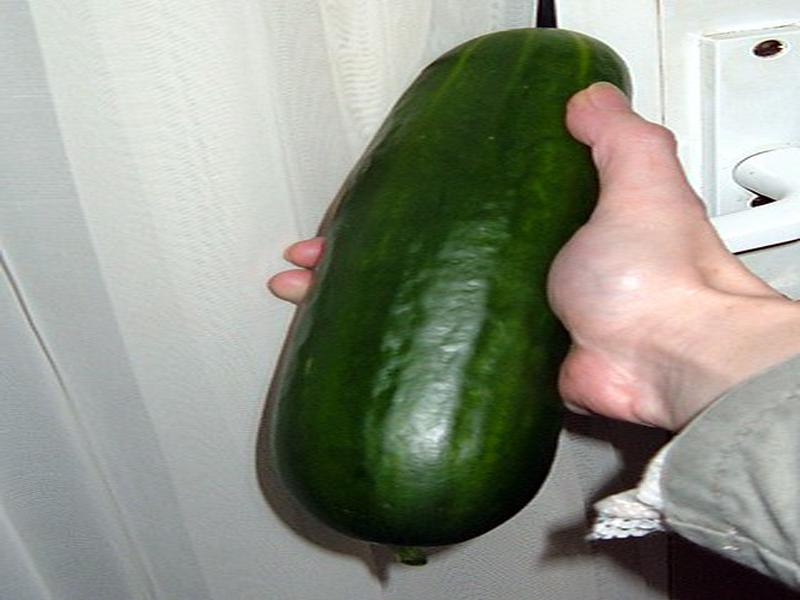Cucumber: (257, 28, 628, 566)
